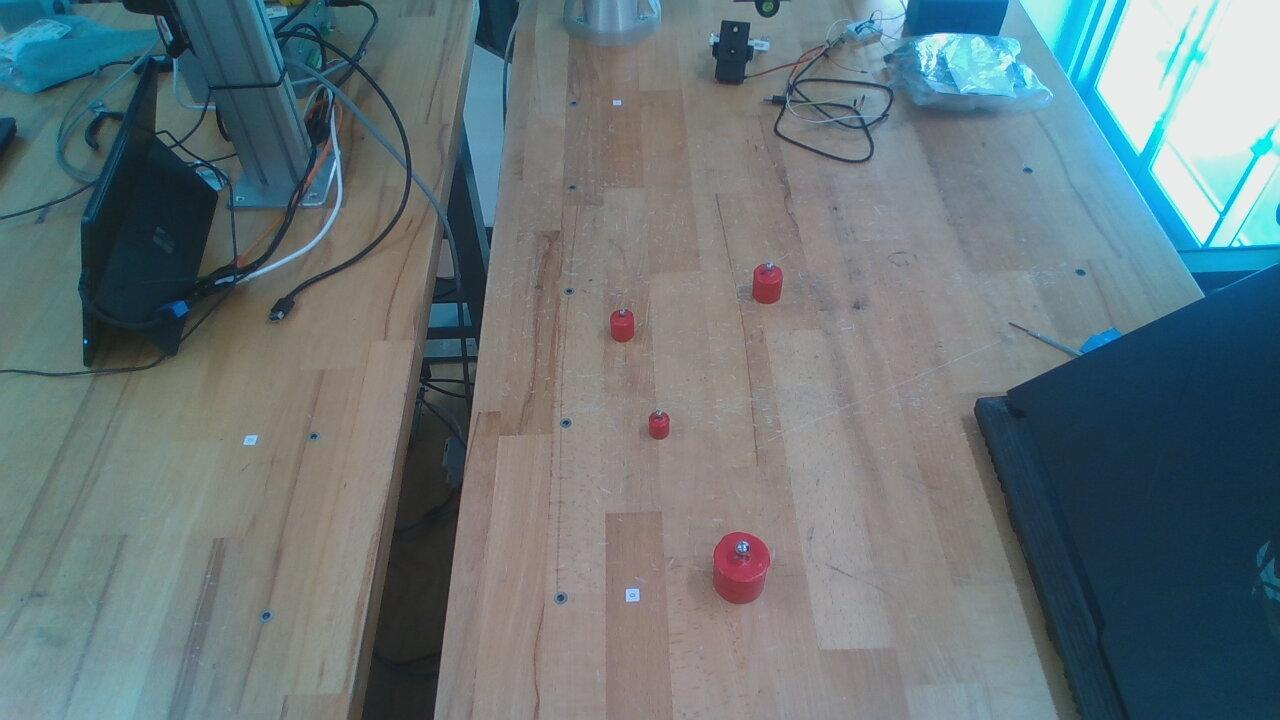red_object: (710, 526, 770, 610), (749, 257, 786, 306), (607, 303, 637, 346), (646, 406, 671, 444)
